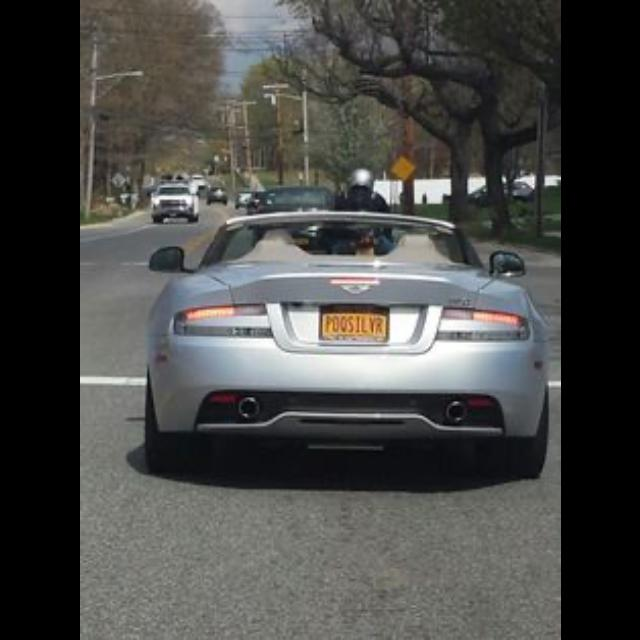carPlate: (318, 312, 388, 344)
